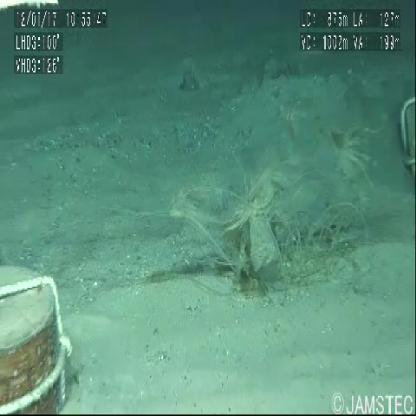Rác: (154, 156, 379, 300)
